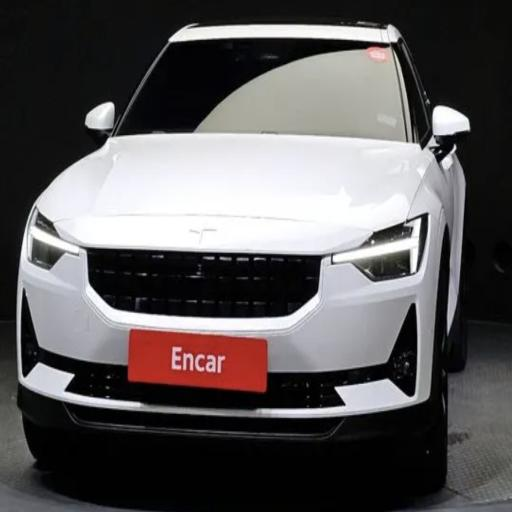normal: (12, 8, 486, 502)
